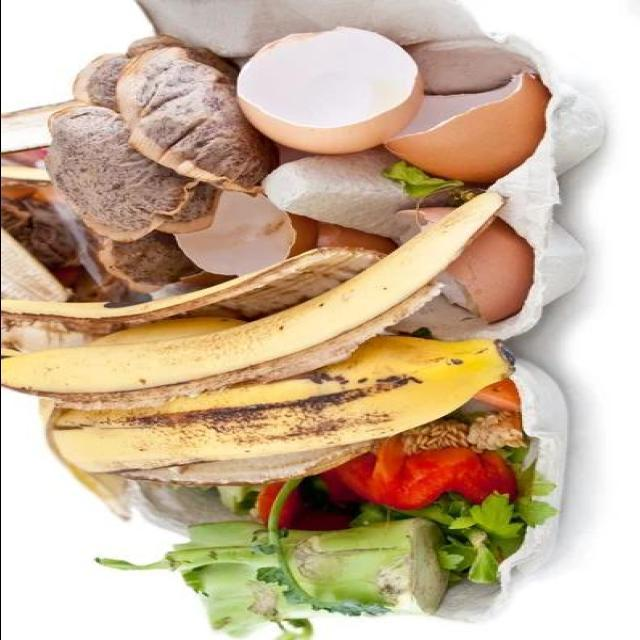Garbage: (0, 0, 609, 640)
contaminated_waste: (395, 38, 603, 340), (136, 0, 483, 58), (436, 514, 557, 622), (511, 359, 567, 510)
